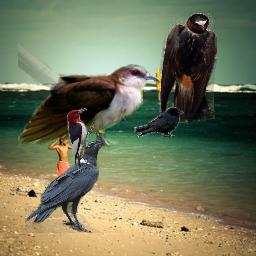Crow: (25, 138, 107, 233), (134, 107, 184, 137)
Cuckoo: (18, 10, 162, 151)
Swallow: (159, 13, 217, 124)
Woodpecker: (67, 108, 94, 172)
